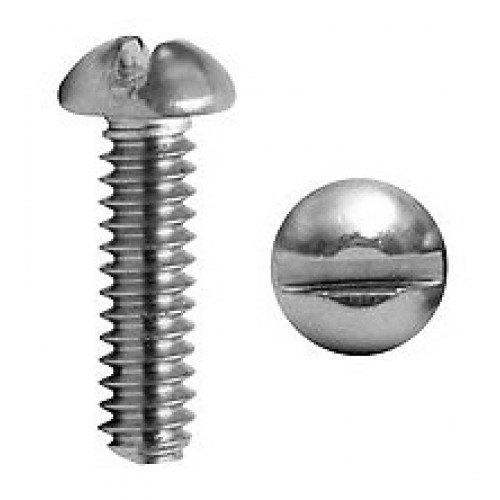slotted: (274, 176, 450, 360)
